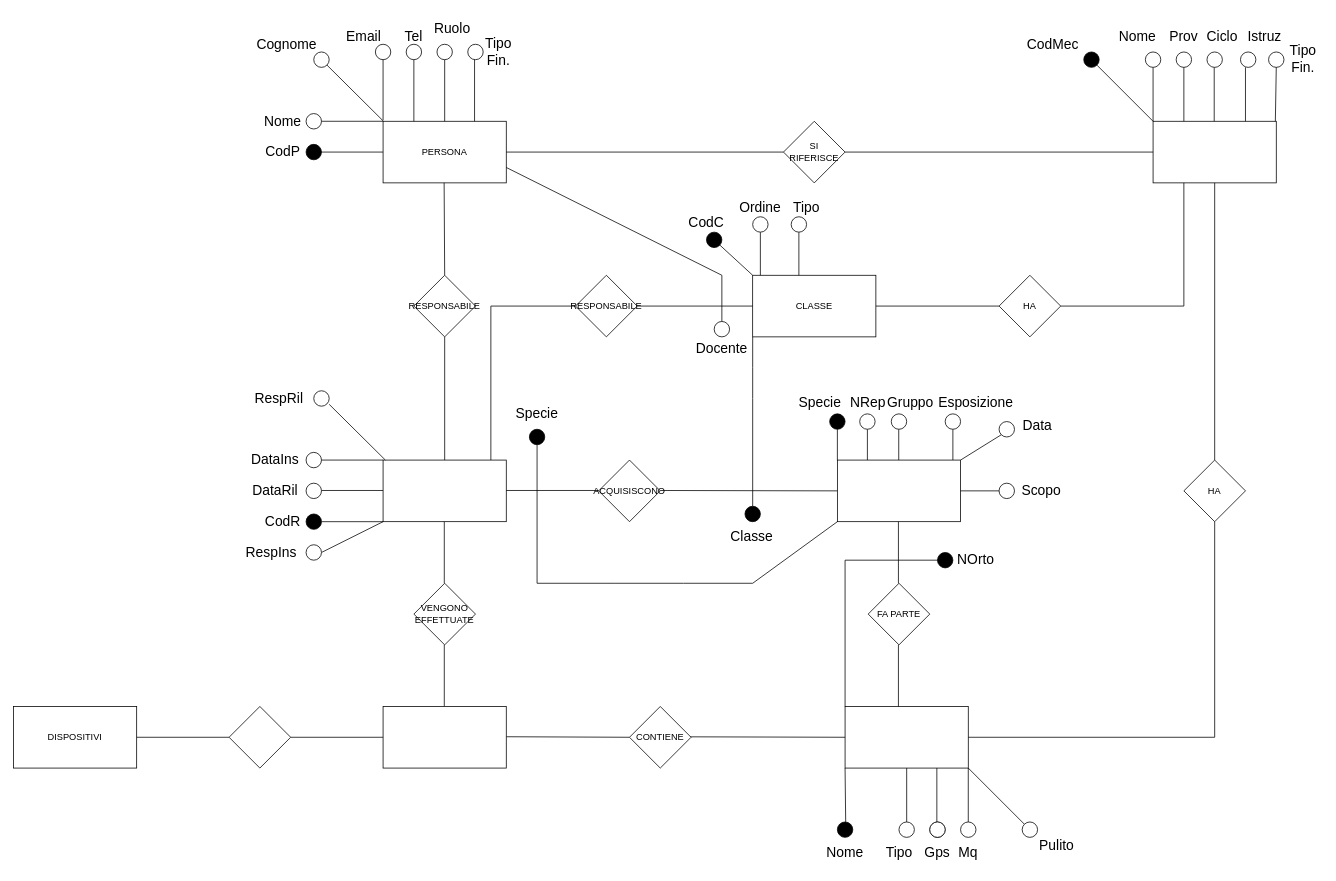
The diagram is 1336 pixels wide and 881 high, and some of its shapes have lost their labels. The shapes that lost their labels are listed below. From the top down, each one's centre as x and y in pixels, then its label:
At point 1214,152: "SCUOLA".
At point 444,490: "RILEVAZIONI".
At point 899,490: "PIANTA".
At point 259,737: "FORNISCONO".
At point 444,737: "INFORMAZIONI AMBIENTALI".
At point 906,737: "ORTO".
